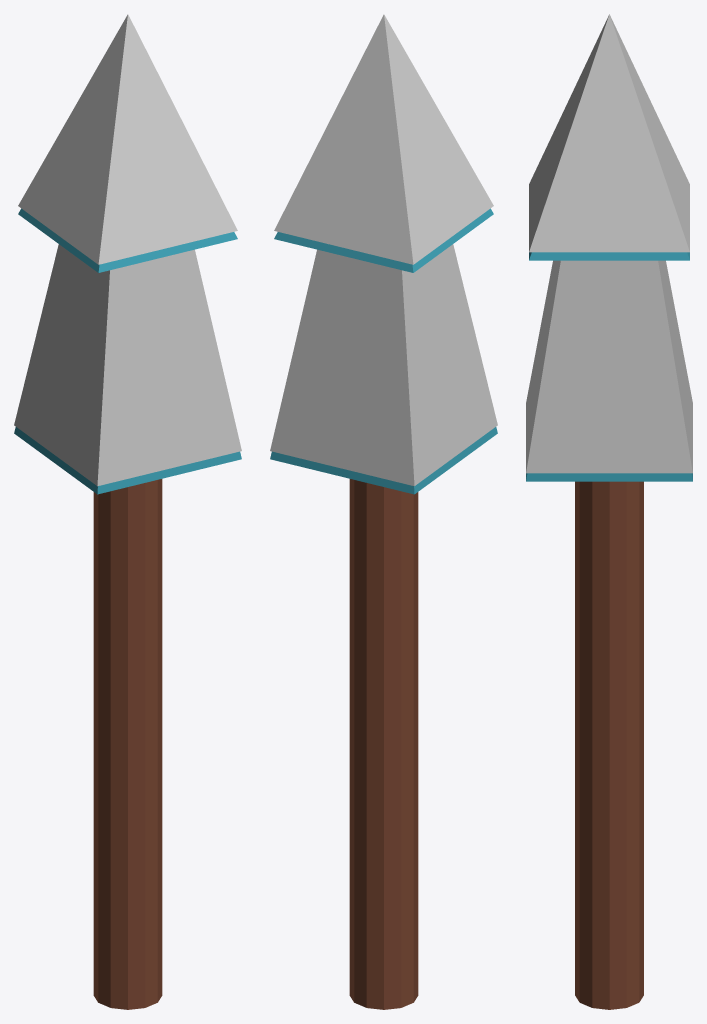
The model's file is Tree_16_winter_blue_mat.fbx.
3 views of the same model, side by side, from view 1: azimuth 30°, elevation 25°; view 2: azimuth 150°, elevation 25°; view 3: azimuth 270°, elevation 25° (orthographic).
Visible parts, largest first — view 1: Tree_16_winter_blue_mat; view 2: Tree_16_winter_blue_mat; view 3: Tree_16_winter_blue_mat.
Part boxes in pixels (x1=…): Tree_16_winter_blue_mat: x1=14, y1=14, x2=241, y2=1009; Tree_16_winter_blue_mat: x1=270, y1=14, x2=497, y2=1009; Tree_16_winter_blue_mat: x1=526, y1=14, x2=692, y2=1009.
Size of the model in its own units: 53.67 by 348 by 53.67.
